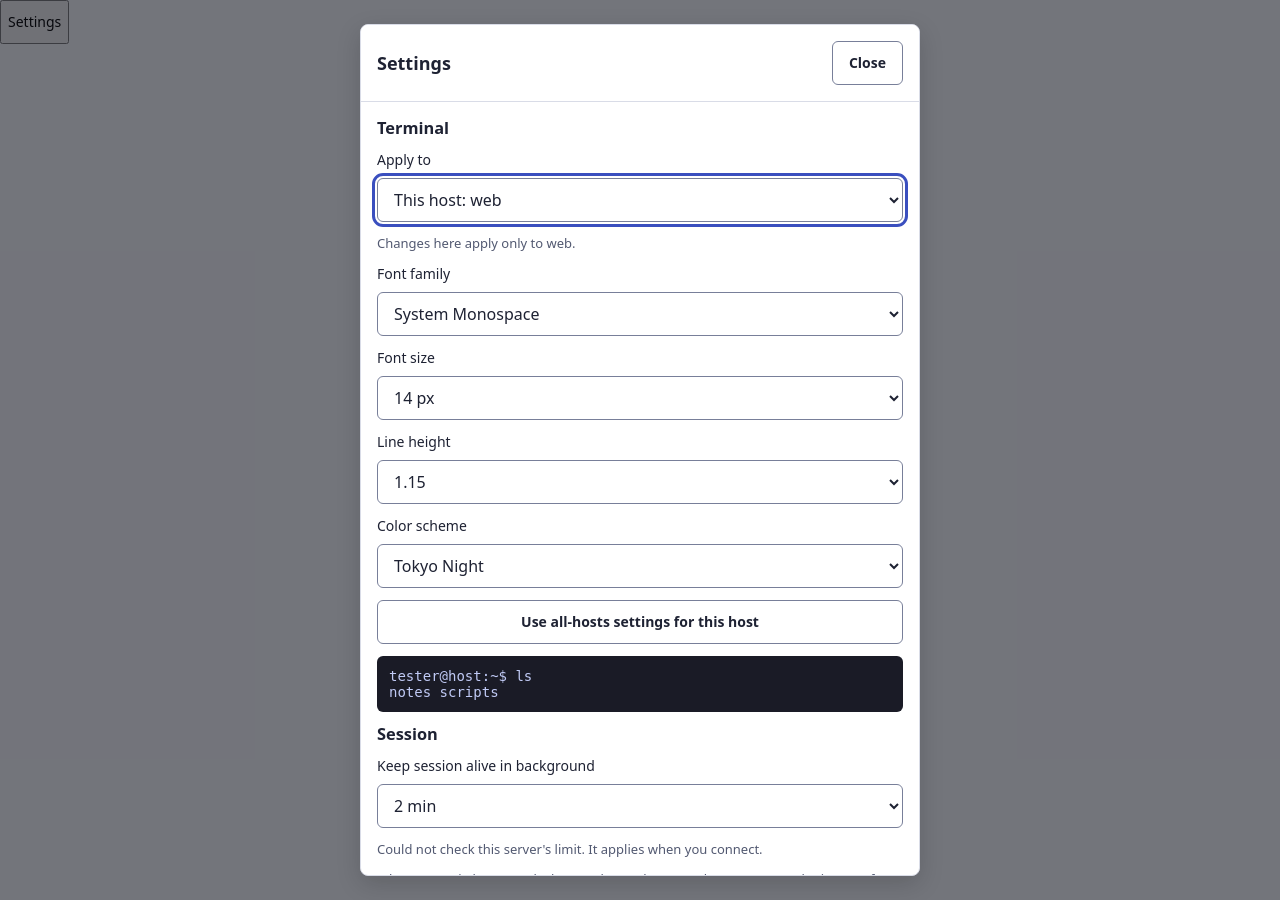
Test case: SettingsDialog › creates, edits, and removes a host override
Earlier steps of the test are not shown.
expect the dropdown labelled "Apply to" shows "This host: web": met, box 377,178 -> 903,222
expect the text "Changes here apply only to web." is shown: met, box 377,234 -> 576,252
Select "18 px" in the dropdown labelled "Font size" at point(640, 398), box 377,376 -> 903,420
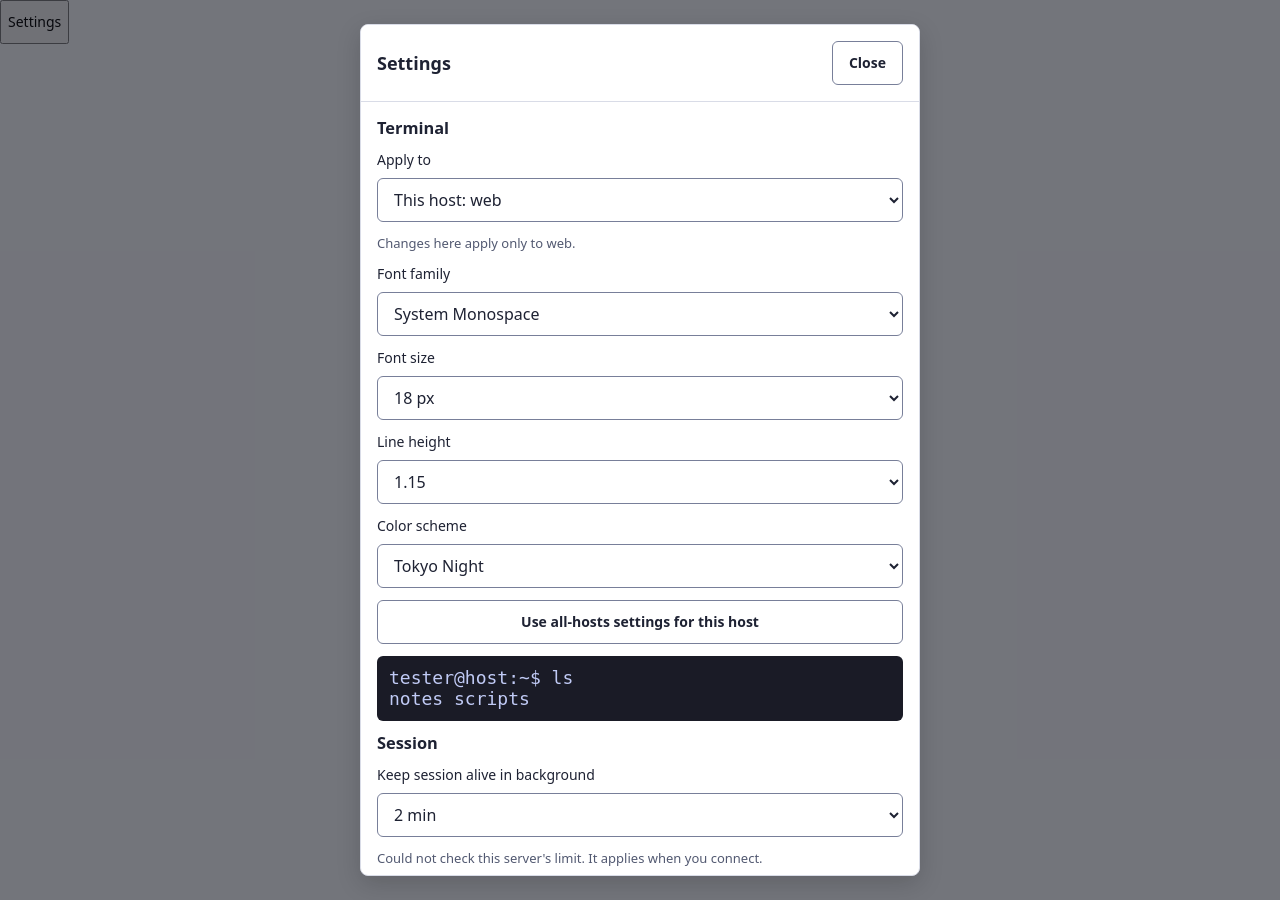
Click the button "Use all-hosts settings for this host" at point(640, 622), box 377,600 -> 903,644
(page scrolled)
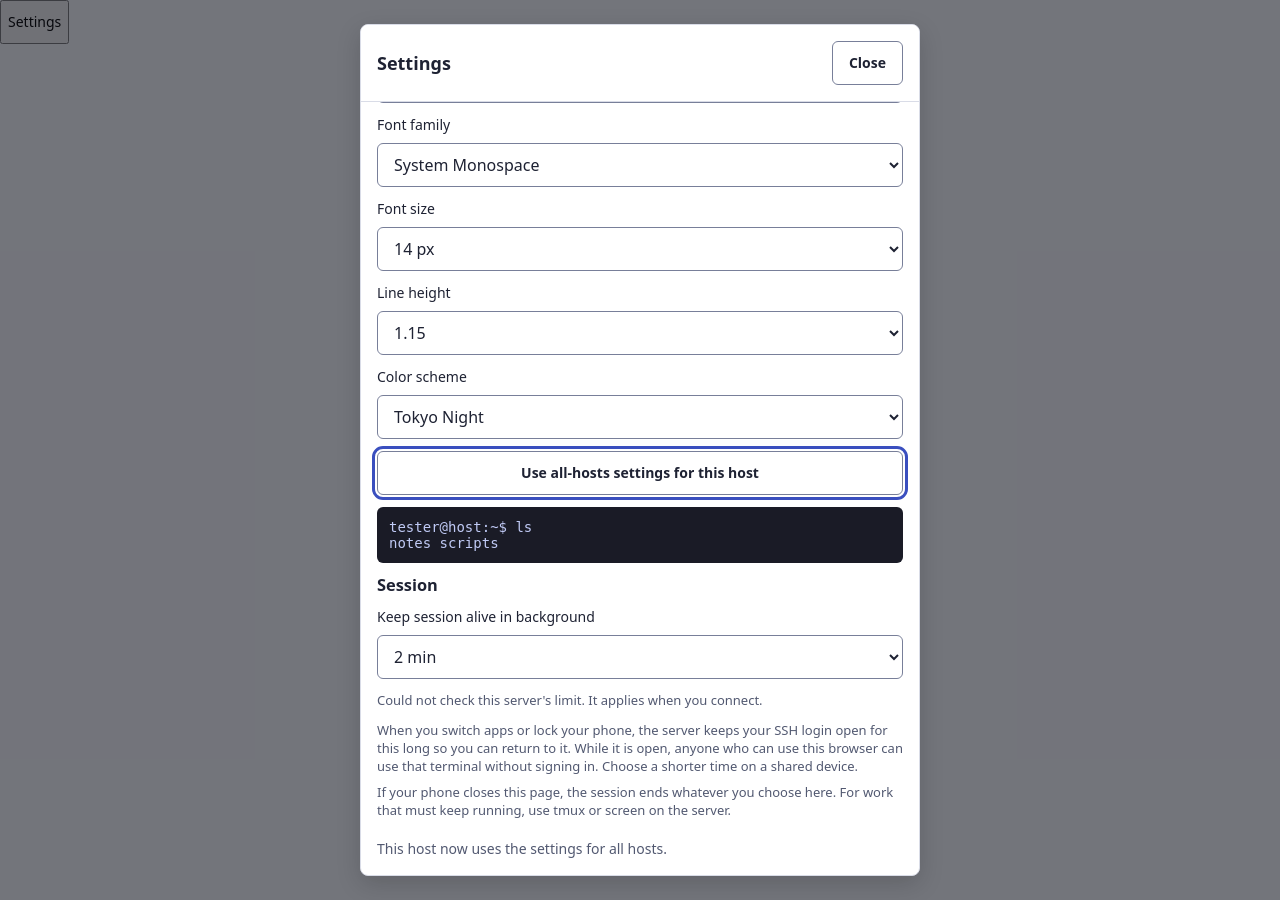
expect the text "This host now uses the settings for all hosts." is shown: met, box 377,839 -> 667,858
